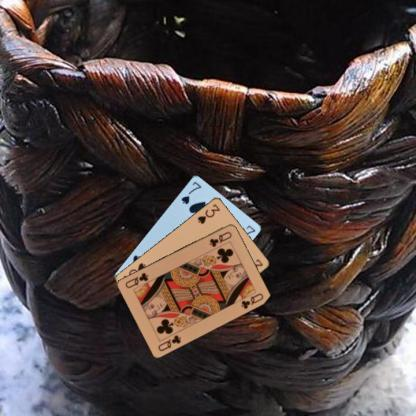3s: (195, 201, 221, 225)
7s: (178, 179, 203, 205)
Qc: (156, 332, 182, 352), (207, 229, 233, 248)
